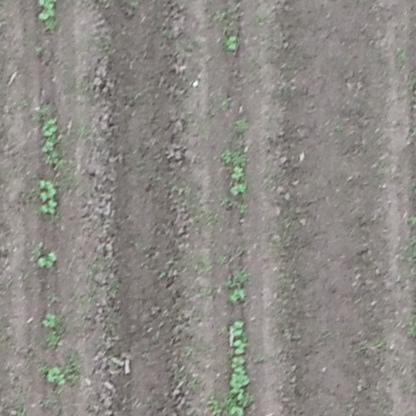vc: (39, 179, 57, 214), (231, 361, 253, 388), (38, 247, 56, 270), (48, 367, 69, 385), (41, 117, 60, 135), (42, 309, 59, 329), (38, 1, 56, 18), (230, 318, 246, 336), (231, 285, 246, 302), (231, 184, 249, 197), (225, 35, 239, 51), (40, 139, 54, 155), (232, 164, 245, 180), (235, 340, 246, 355)
